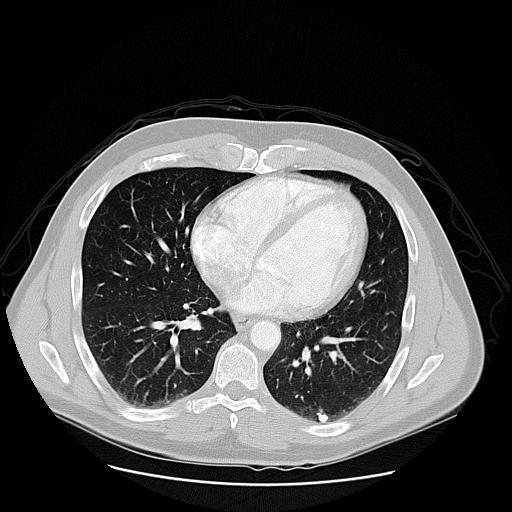nodule: (316, 411, 330, 425)
